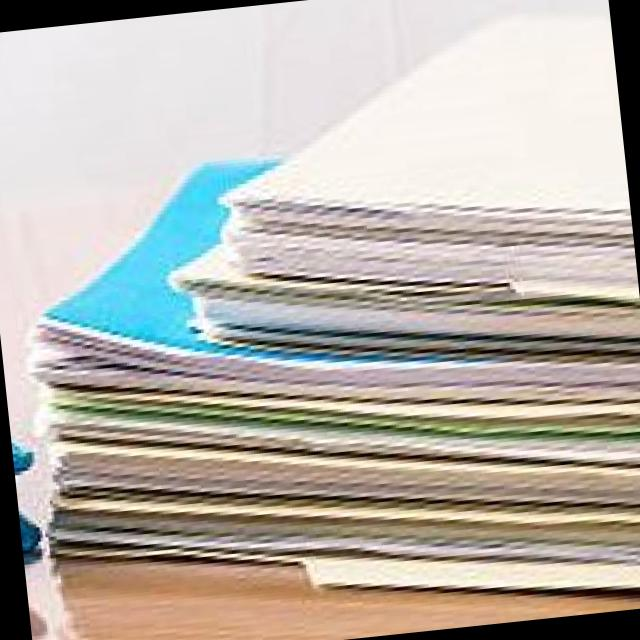electronic: (0, 0, 640, 640), (196, 0, 640, 351), (10, 426, 44, 564)
